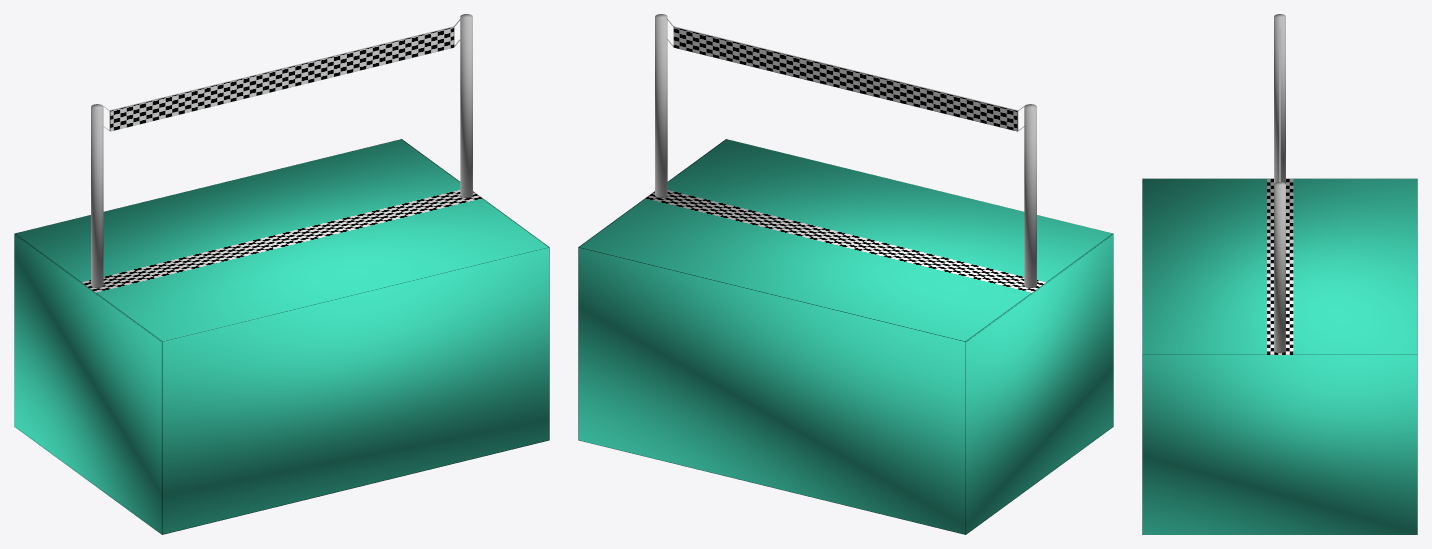
File: finishPlatform.obj
3 renders of one model, left to right at view 1: azimuth 30°, elevation 25°; view 2: azimuth 150°, elevation 25°; view 3: azimuth 270°, elevation 25°, orthographic. The views are drawn at different scales.
Visible parts, largest first — view 1: Cube; view 2: Cube; view 3: Cube.
Part boxes in pixels (x1,y1,x2,y2): Cube: (14,14,549,534); Cube: (578,14,1113,534); Cube: (1142,14,1417,534).
Size of the model in its own units: 10.36 by 9.5 by 6.84.
